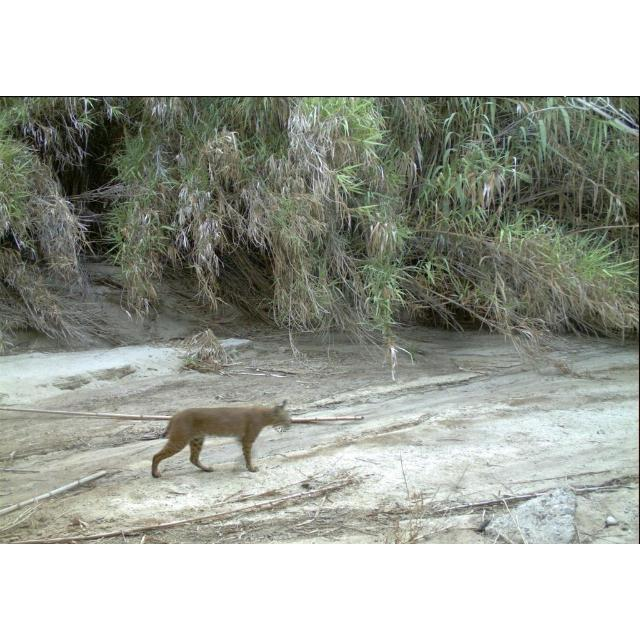animals: (150, 398, 292, 482)
